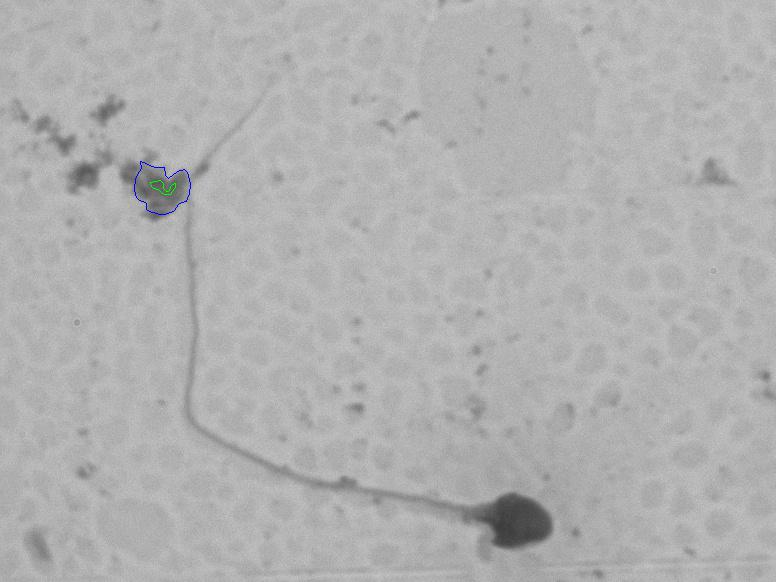Abnormal: (158, 59, 566, 567)
